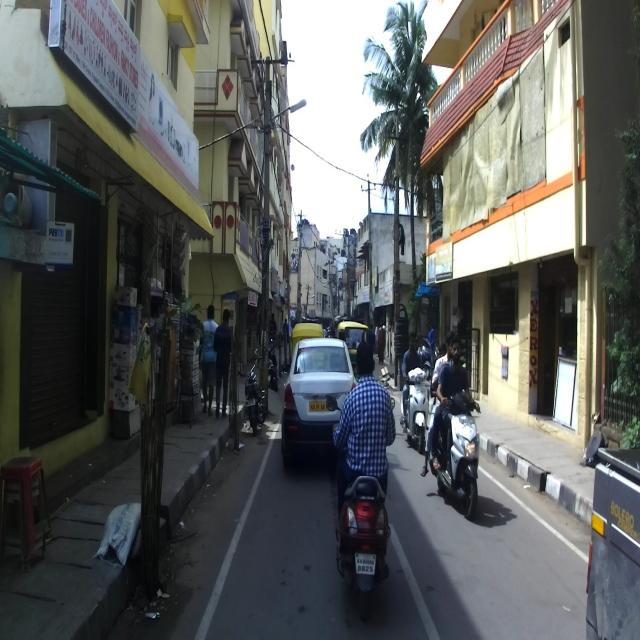car: (280, 337, 358, 468)
scooter: (326, 396, 396, 623), (427, 391, 481, 518), (399, 366, 432, 454)
